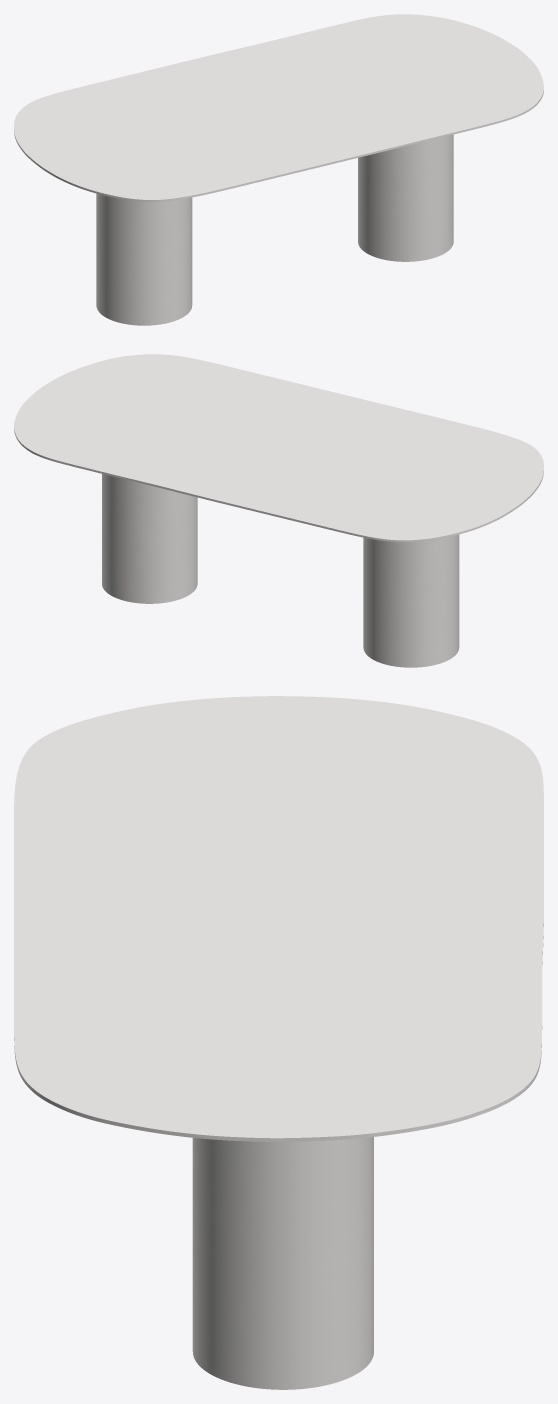
The model's file is purewhite_oval_facet_stream.glb.
3 views of the same model, one above another, from view 1: azimuth 30°, elevation 25°; view 2: azimuth 150°, elevation 25°; view 3: azimuth 270°, elevation 25° (orthographic). The views are drawn at different scales.
Parts seen in each view (by area): view 1: facet_oval, stream; view 2: facet_oval, stream; view 3: facet_oval, stream.
Part boxes in pixels (x1=…): facet_oval: x1=14, y1=14, x2=543, y2=201; stream: x1=96, y1=134, x2=453, y2=325; facet_oval: x1=14, y1=354, x2=543, y2=542; stream: x1=102, y1=474, x2=459, y2=667; facet_oval: x1=14, y1=696, x2=543, y2=1141; stream: x1=192, y1=1137, x2=373, y2=1389.
Size of the model in its own units: 7.5 by 2.5 by 3.8.
Materials: 1 (1 with a texture image).
